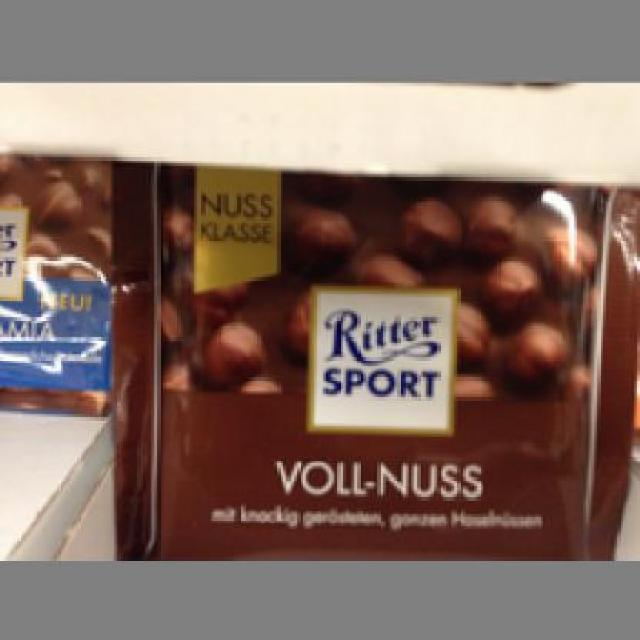Chocolate: (105, 154, 638, 557)
